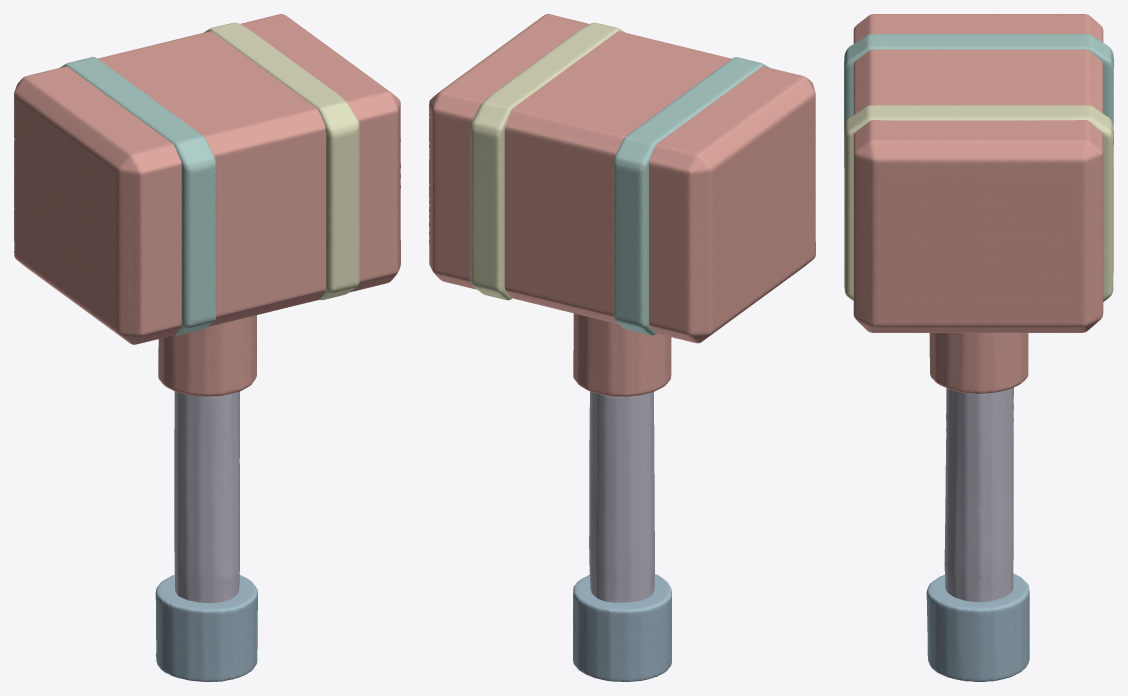
The model's file is warhammer.glb.
3 renders of one model, left to right at view 1: azimuth 30°, elevation 25°; view 2: azimuth 150°, elevation 25°; view 3: azimuth 270°, elevation 25°, orthographic.
Parts seen in each view (by area): view 1: world; view 2: world; view 3: world.
Boxes of the visible parts, bbox=[...] form: world: bbox=[14, 14, 400, 681]; world: bbox=[429, 14, 815, 681]; world: bbox=[844, 14, 1113, 681].
Size of the model in its own units: 0.9762 by 1.91 by 0.7976.
